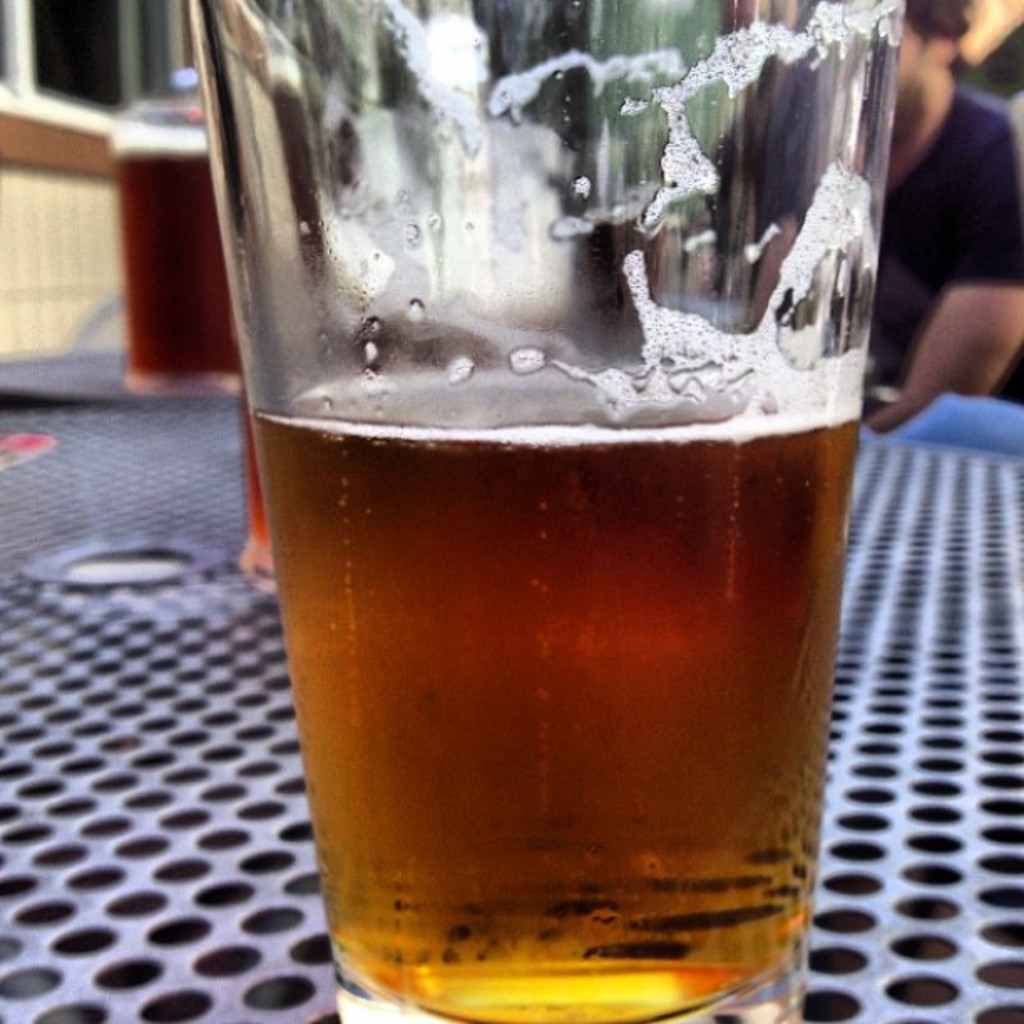Beer: (194, 0, 905, 1023), (108, 105, 243, 398)
